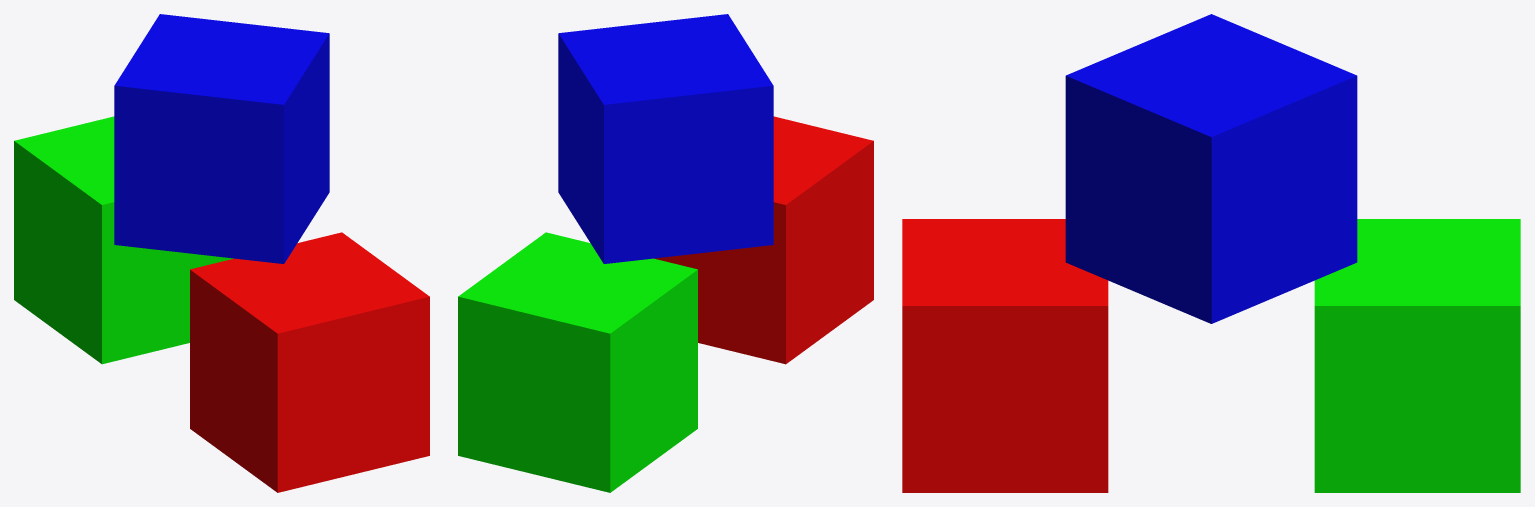
File: instanced-materials-ascii.fbx
The picture shows the model from 3 angles, left to right: view 1: azimuth 30°, elevation 25°; view 2: azimuth 150°, elevation 25°; view 3: azimuth 270°, elevation 25°; orthographic projection. The views are drawn at different scales.
Visible parts, largest first — view 1: Red, Blue, Green; view 2: Green, Blue, Red; view 3: Blue, Green, Red.
Boxes of the visible parts, box(x1,y1,x2,y2) form: Red: box(190, 232, 429, 492); Blue: box(114, 14, 329, 263); Green: box(14, 116, 233, 364); Green: box(458, 232, 697, 492); Blue: box(558, 14, 773, 263); Red: box(654, 116, 873, 364); Blue: box(1065, 14, 1357, 323); Green: box(1314, 219, 1520, 492); Red: box(902, 219, 1108, 492).
Size of the model in its own units: 28.28 by 60 by 40.
